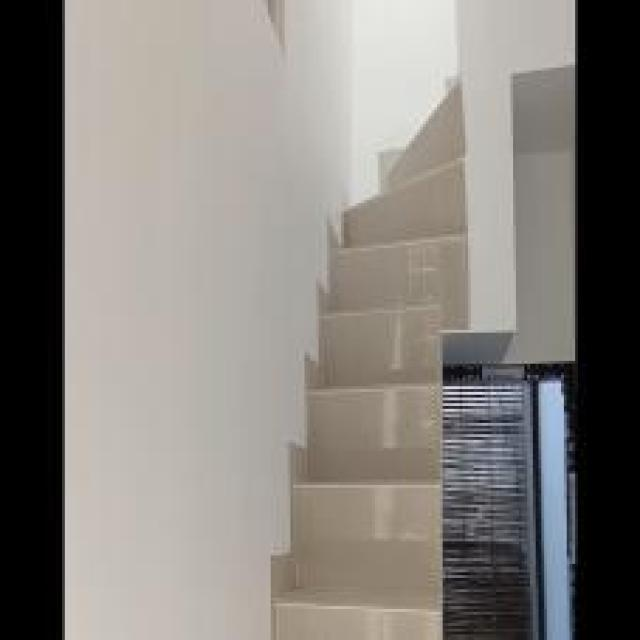upstair: (278, 235, 450, 638)
